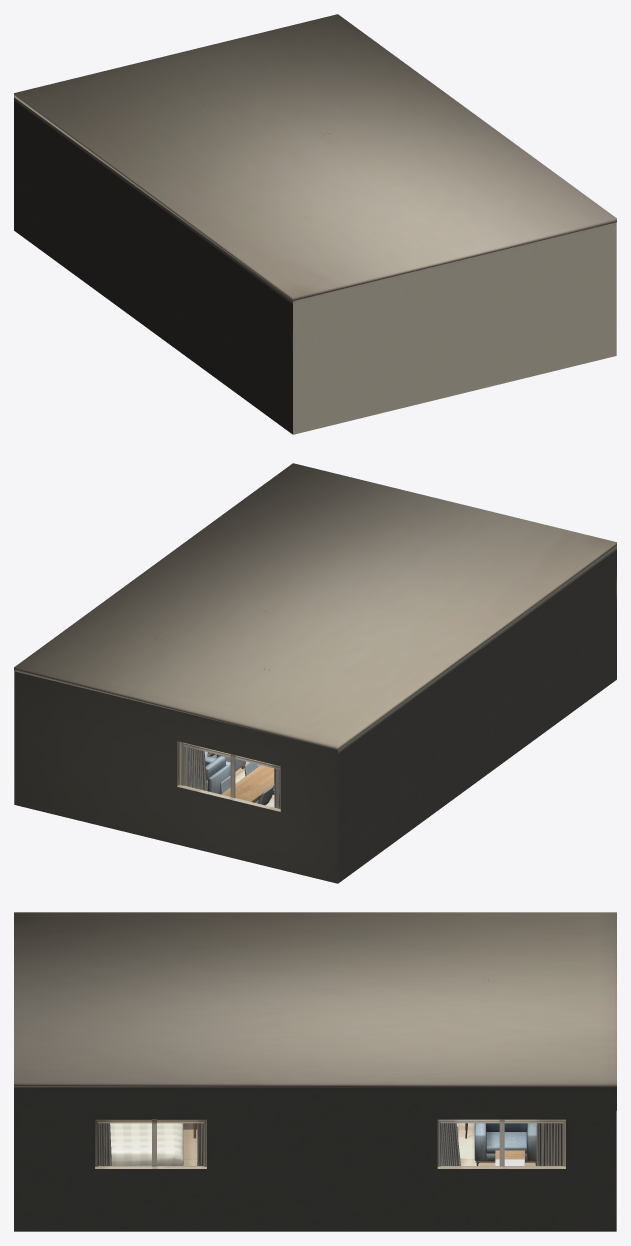
The model's file is OneBedApartment.glb.
3 views of the same model, one above another, from view 1: azimuth 30°, elevation 25°; view 2: azimuth 150°, elevation 25°; view 3: azimuth 270°, elevation 25° (orthographic). The views are drawn at different scales.
Visible parts, largest first — view 1: OneBedInterior; view 2: OneBedInterior; view 3: OneBedInterior.
Boxes of the visible parts, x1,y1,x2,y2 form: OneBedInterior: (14,14,616,434); OneBedInterior: (14,463,616,883); OneBedInterior: (14,912,616,1231).
Bounding box in the file's own units: 14.21 × 5.87 × 21.21.
1 material, 1 textured.
